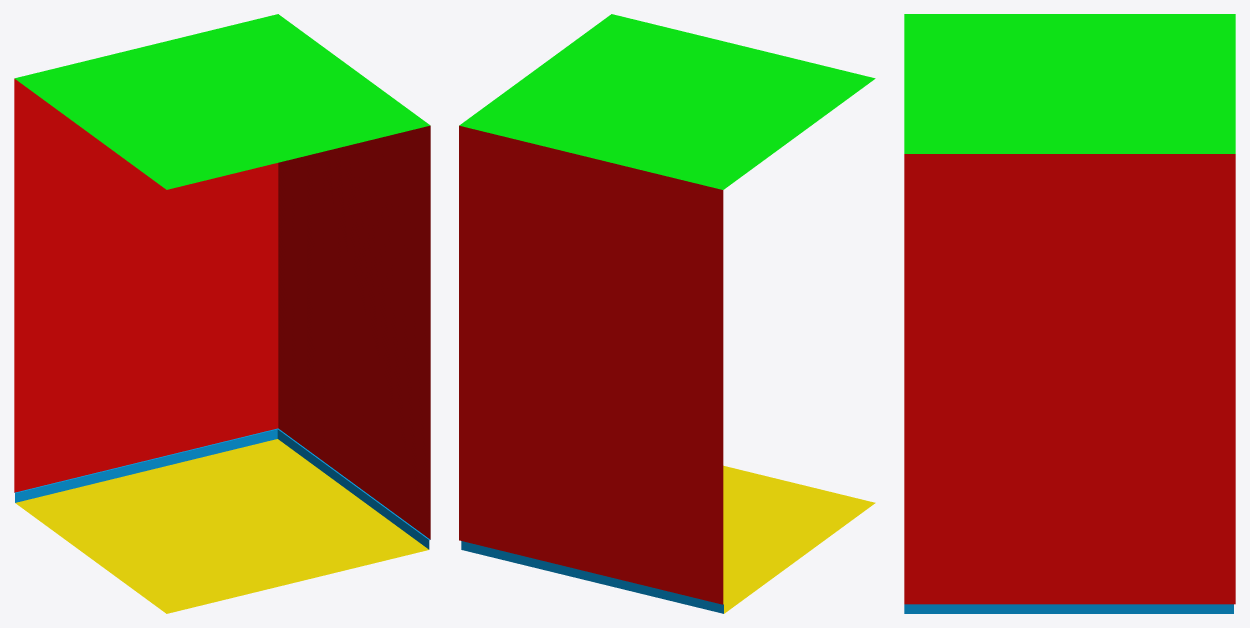
File: SM_Corner_In.FBX
3 renders of one model, left to right at view 1: azimuth 30°, elevation 25°; view 2: azimuth 150°, elevation 25°; view 3: azimuth 270°, elevation 25°, orthographic. The views are drawn at different scales.
Parts seen in each view (by area): view 1: SM_Corner_In; view 2: SM_Corner_In; view 3: SM_Corner_In.
Part boxes in pixels (<box>): SM_Corner_In: <box>14,14,430,613</box>; SM_Corner_In: <box>459,14,875,613</box>; SM_Corner_In: <box>904,14,1235,613</box>.
Size of the model in its own units: 2 by 3.07 by 2.
